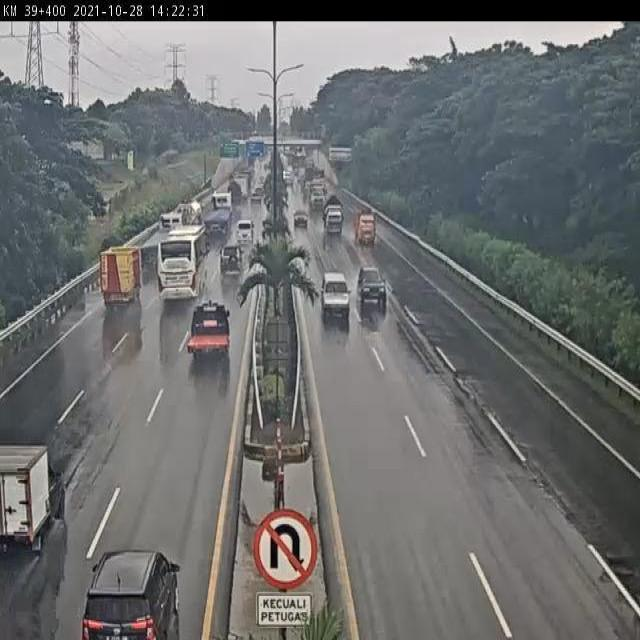bus-l-: (154, 228, 210, 304)
car: (0, 442, 65, 554), (320, 269, 351, 319), (356, 265, 387, 307), (219, 245, 242, 275), (236, 218, 253, 242)
truck-m-: (166, 197, 202, 243)
truck-s-: (100, 242, 144, 306), (186, 300, 231, 360), (353, 205, 376, 247), (323, 196, 345, 235)
truck-xl-: (132, 208, 182, 263), (204, 190, 235, 230)
